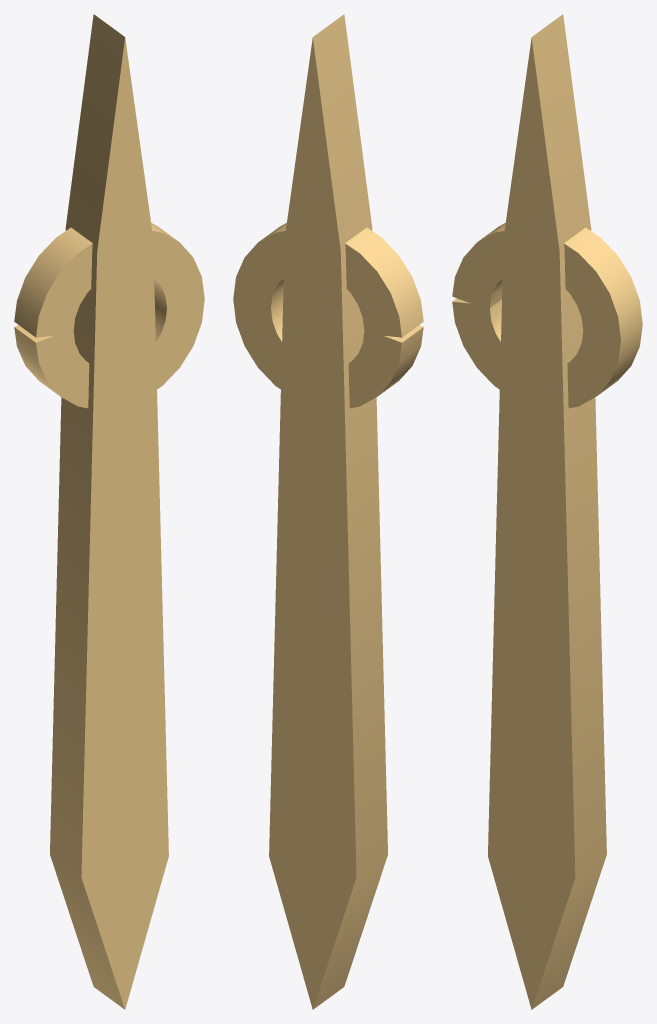
Rendered from HubGate_SmallHand.gltf.
3 renders of one model, left to right at view 1: azimuth 30°, elevation 25°; view 2: azimuth 150°, elevation 25°; view 3: azimuth 330°, elevation 25°, orthographic.
Visible parts, largest first — view 1: HubGate_SmallHand; view 2: HubGate_SmallHand; view 3: HubGate_SmallHand.
Part boxes in pixels (x1,y1,x2,y2): HubGate_SmallHand: [14, 14, 204, 1009]; HubGate_SmallHand: [233, 14, 423, 1009]; HubGate_SmallHand: [452, 14, 642, 1009].
Size of the model in its own units: 0.3087 by 1.7 by 0.1.
